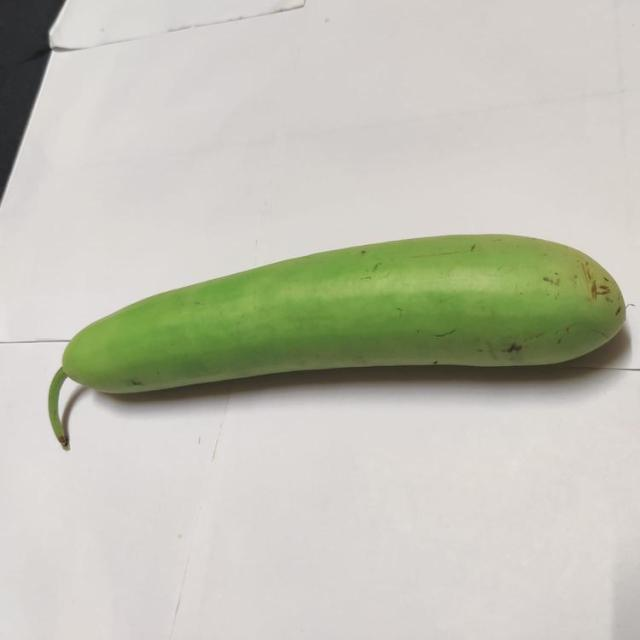Organik: (48, 230, 633, 432)
